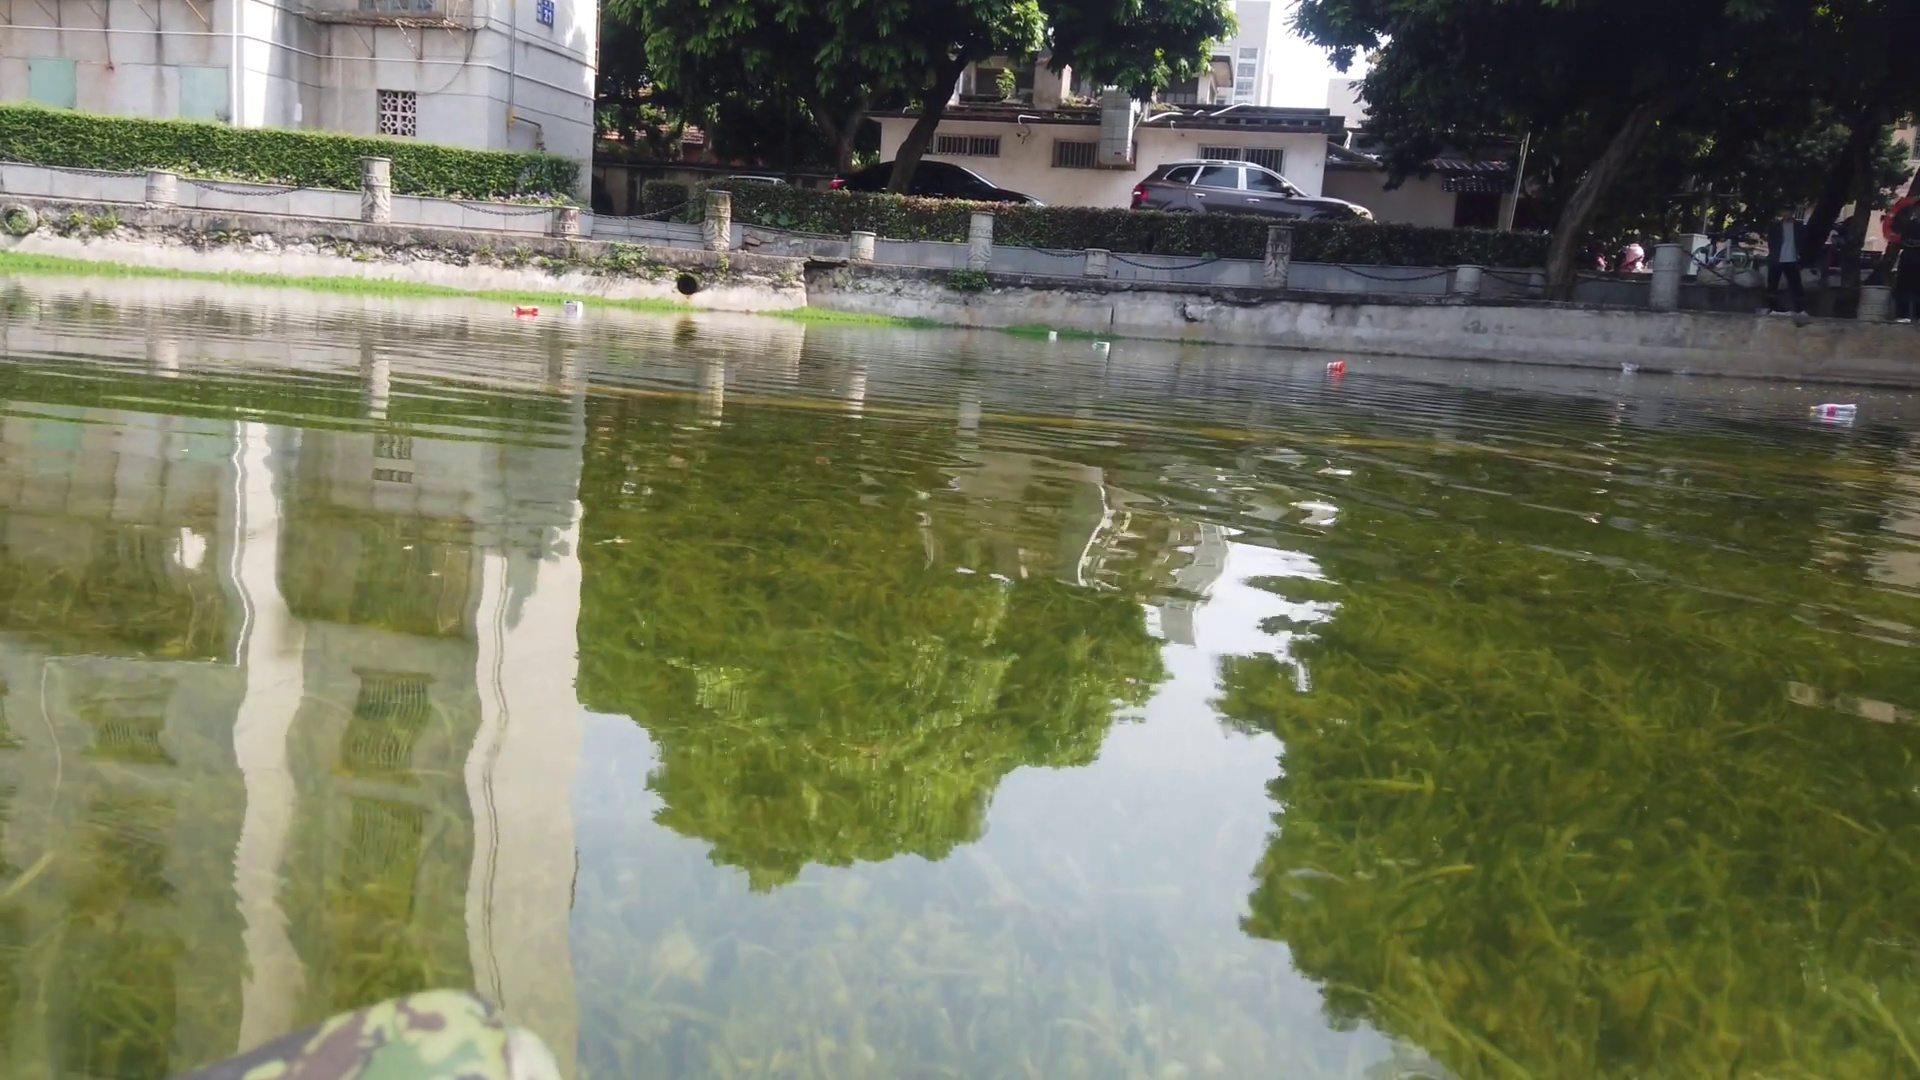bottle: (1811, 404, 1858, 415), (512, 305, 539, 316), (1327, 360, 1345, 372)
carton: (563, 299, 584, 310), (1092, 342, 1112, 349), (1048, 331, 1058, 340)
plastic: (1619, 357, 1640, 376)
